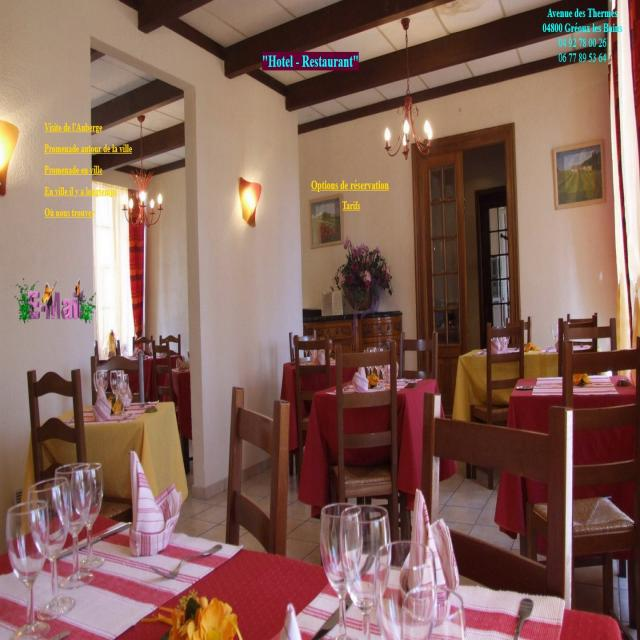heading: (262, 48, 360, 72)
image: (0, 0, 640, 640)
text: (36, 117, 138, 222), (543, 5, 626, 69), (304, 176, 396, 212)
